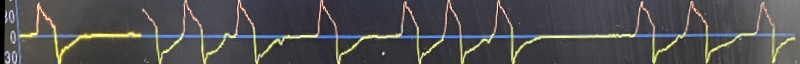normal_flow: (13, 0, 800, 64)
